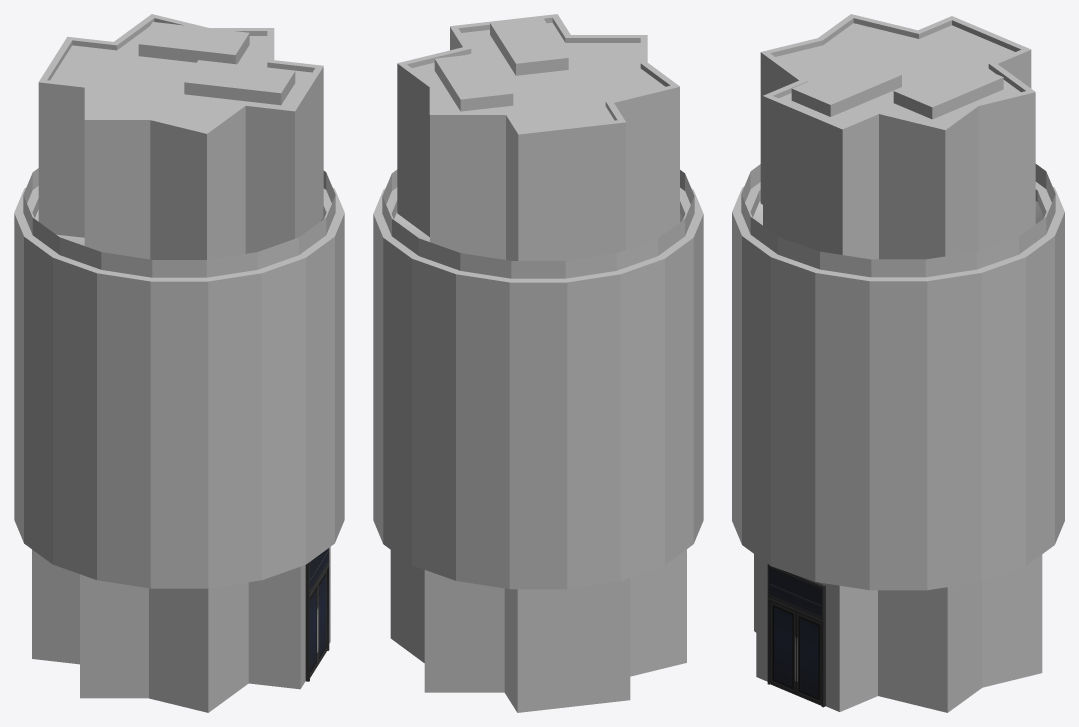
File: Office_Block_lvl_3.fbx
3 views of the same model, side by side, from view 1: azimuth 30°, elevation 25°; view 2: azimuth 150°, elevation 25°; view 3: azimuth 270°, elevation 25° (orthographic).
Visible parts, largest first — view 1: Office_Block_lvl_3, Office_Block_lvl_3_Fence, Door; view 2: Office_Block_lvl_3, Office_Block_lvl_3_Fence; view 3: Office_Block_lvl_3, Door, Office_Block_lvl_3_Fence.
Boxes of the visible parts, x1=… form: Office_Block_lvl_3: x1=14, y1=14, x2=344, y2=712; Office_Block_lvl_3_Fence: x1=23, y1=168, x2=335, y2=277; Door: x1=305, y1=548, x2=329, y2=681; Office_Block_lvl_3: x1=373, y1=14, x2=703, y2=712; Office_Block_lvl_3_Fence: x1=382, y1=169, x2=694, y2=278; Office_Block_lvl_3: x1=732, y1=14, x2=1064, y2=712; Door: x1=767, y1=564, x2=825, y2=707; Office_Block_lvl_3_Fence: x1=741, y1=164, x2=1055, y2=277.
Size of what is drawn, in the model's own units: 883 by 1746 by 897.
